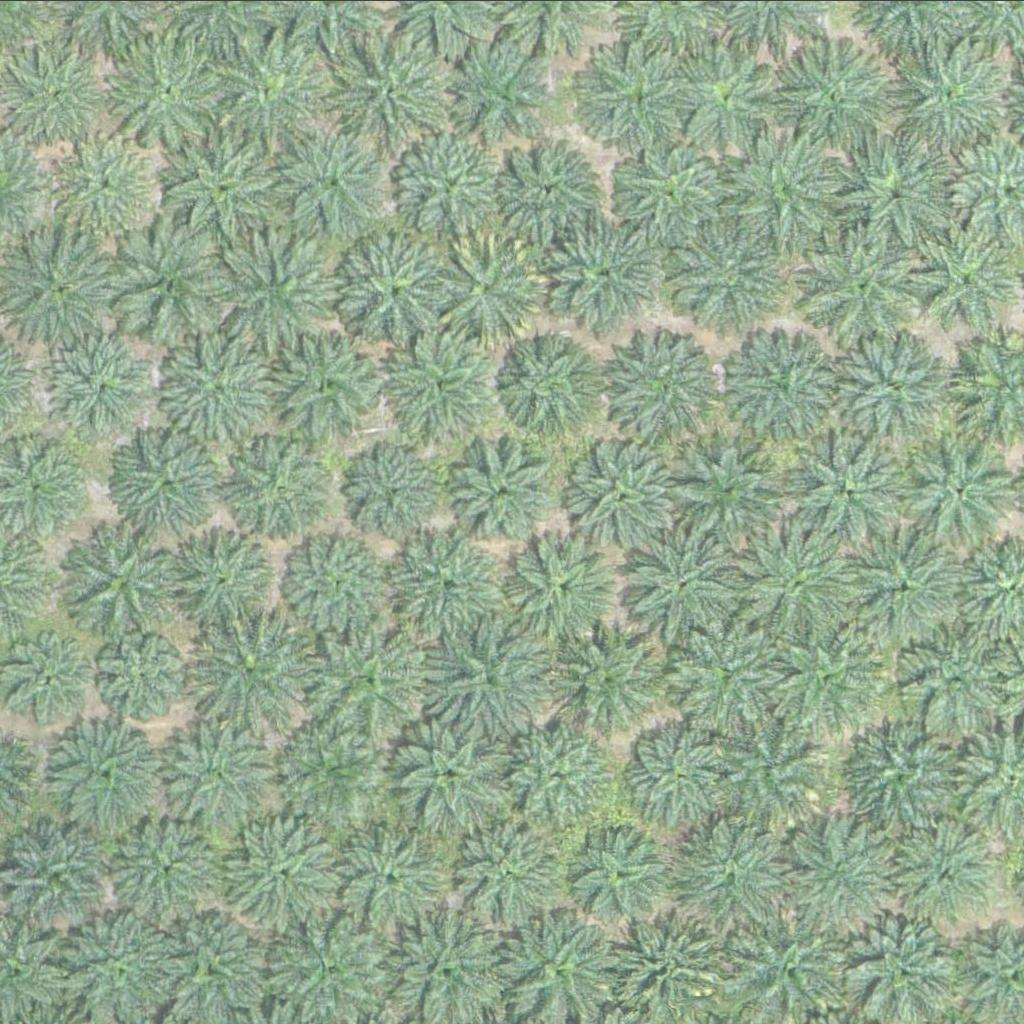Kelapa_Sawit: (334, 32, 460, 157), (206, 25, 332, 150), (109, 33, 235, 158), (166, 128, 292, 253), (338, 230, 464, 355), (217, 236, 343, 361), (113, 212, 239, 337), (265, 321, 391, 446), (435, 619, 561, 744), (189, 604, 315, 729), (398, 708, 524, 833), (574, 33, 700, 158), (610, 126, 736, 251), (596, 897, 722, 1022), (786, 811, 912, 936), (676, 810, 802, 935), (839, 713, 965, 838), (897, 616, 1023, 741), (734, 524, 860, 649), (838, 522, 964, 647), (602, 321, 728, 446), (720, 318, 846, 443), (802, 225, 928, 350), (670, 218, 796, 343), (542, 213, 668, 338), (733, 129, 859, 254), (836, 135, 962, 260), (895, 32, 1021, 157), (774, 37, 900, 162), (435, 223, 560, 348), (377, 321, 502, 446), (620, 523, 745, 648), (782, 422, 907, 547), (670, 422, 795, 547), (833, 322, 958, 447), (48, 127, 162, 240), (335, 819, 449, 932), (458, 806, 572, 919), (452, 38, 565, 151), (278, 124, 391, 237), (392, 126, 505, 239), (67, 528, 180, 641), (275, 525, 388, 638), (232, 810, 345, 923), (504, 714, 617, 827), (668, 621, 781, 734), (623, 719, 736, 832), (721, 712, 834, 825), (45, 325, 158, 437), (167, 330, 280, 442), (113, 428, 226, 540), (396, 522, 509, 634), (313, 628, 426, 740), (55, 717, 168, 829), (167, 717, 280, 829), (547, 622, 660, 734), (509, 526, 622, 638), (493, 144, 594, 244), (493, 334, 594, 434), (453, 439, 554, 539), (346, 447, 447, 547), (229, 437, 330, 537), (174, 531, 275, 631), (98, 626, 199, 726), (280, 725, 381, 825), (11, 833, 112, 933), (118, 806, 219, 906), (573, 824, 674, 924), (774, 626, 875, 726), (576, 444, 677, 544), (920, 227, 1021, 327), (906, 814, 1006, 914), (682, 46, 782, 146)
